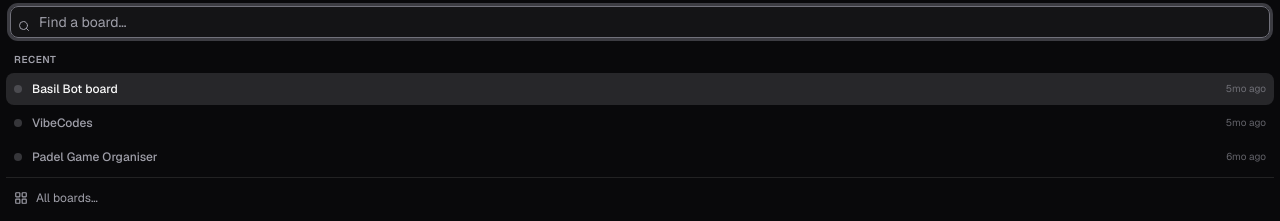
BoardPicker › filters boards by case-insensitive substring
The image size is (1280, 221).
Type "ba" into the field with placeholder "Find a board…" at point(640, 22), box x1=10 y1=6 x2=1270 y2=38
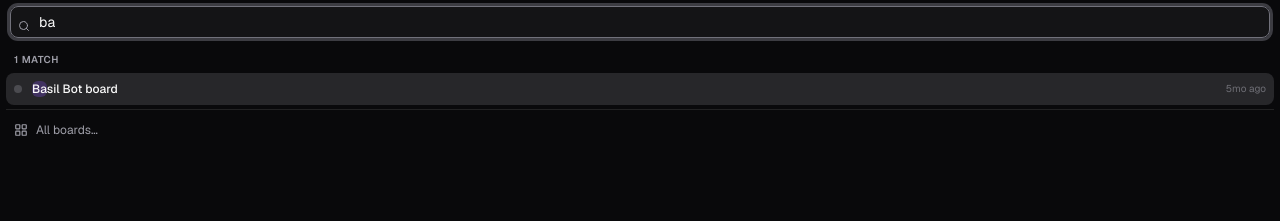
Result: the button "VibeCodes" is gone
Result: the button "Padel Game Organiser" is gone
Result: the text "1 match" is shown at x1=14 y1=53 x2=59 y2=66
